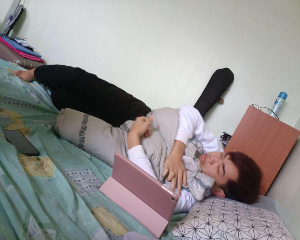fall: (8, 48, 283, 221)
